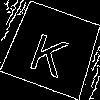K: (27, 24, 74, 78)
